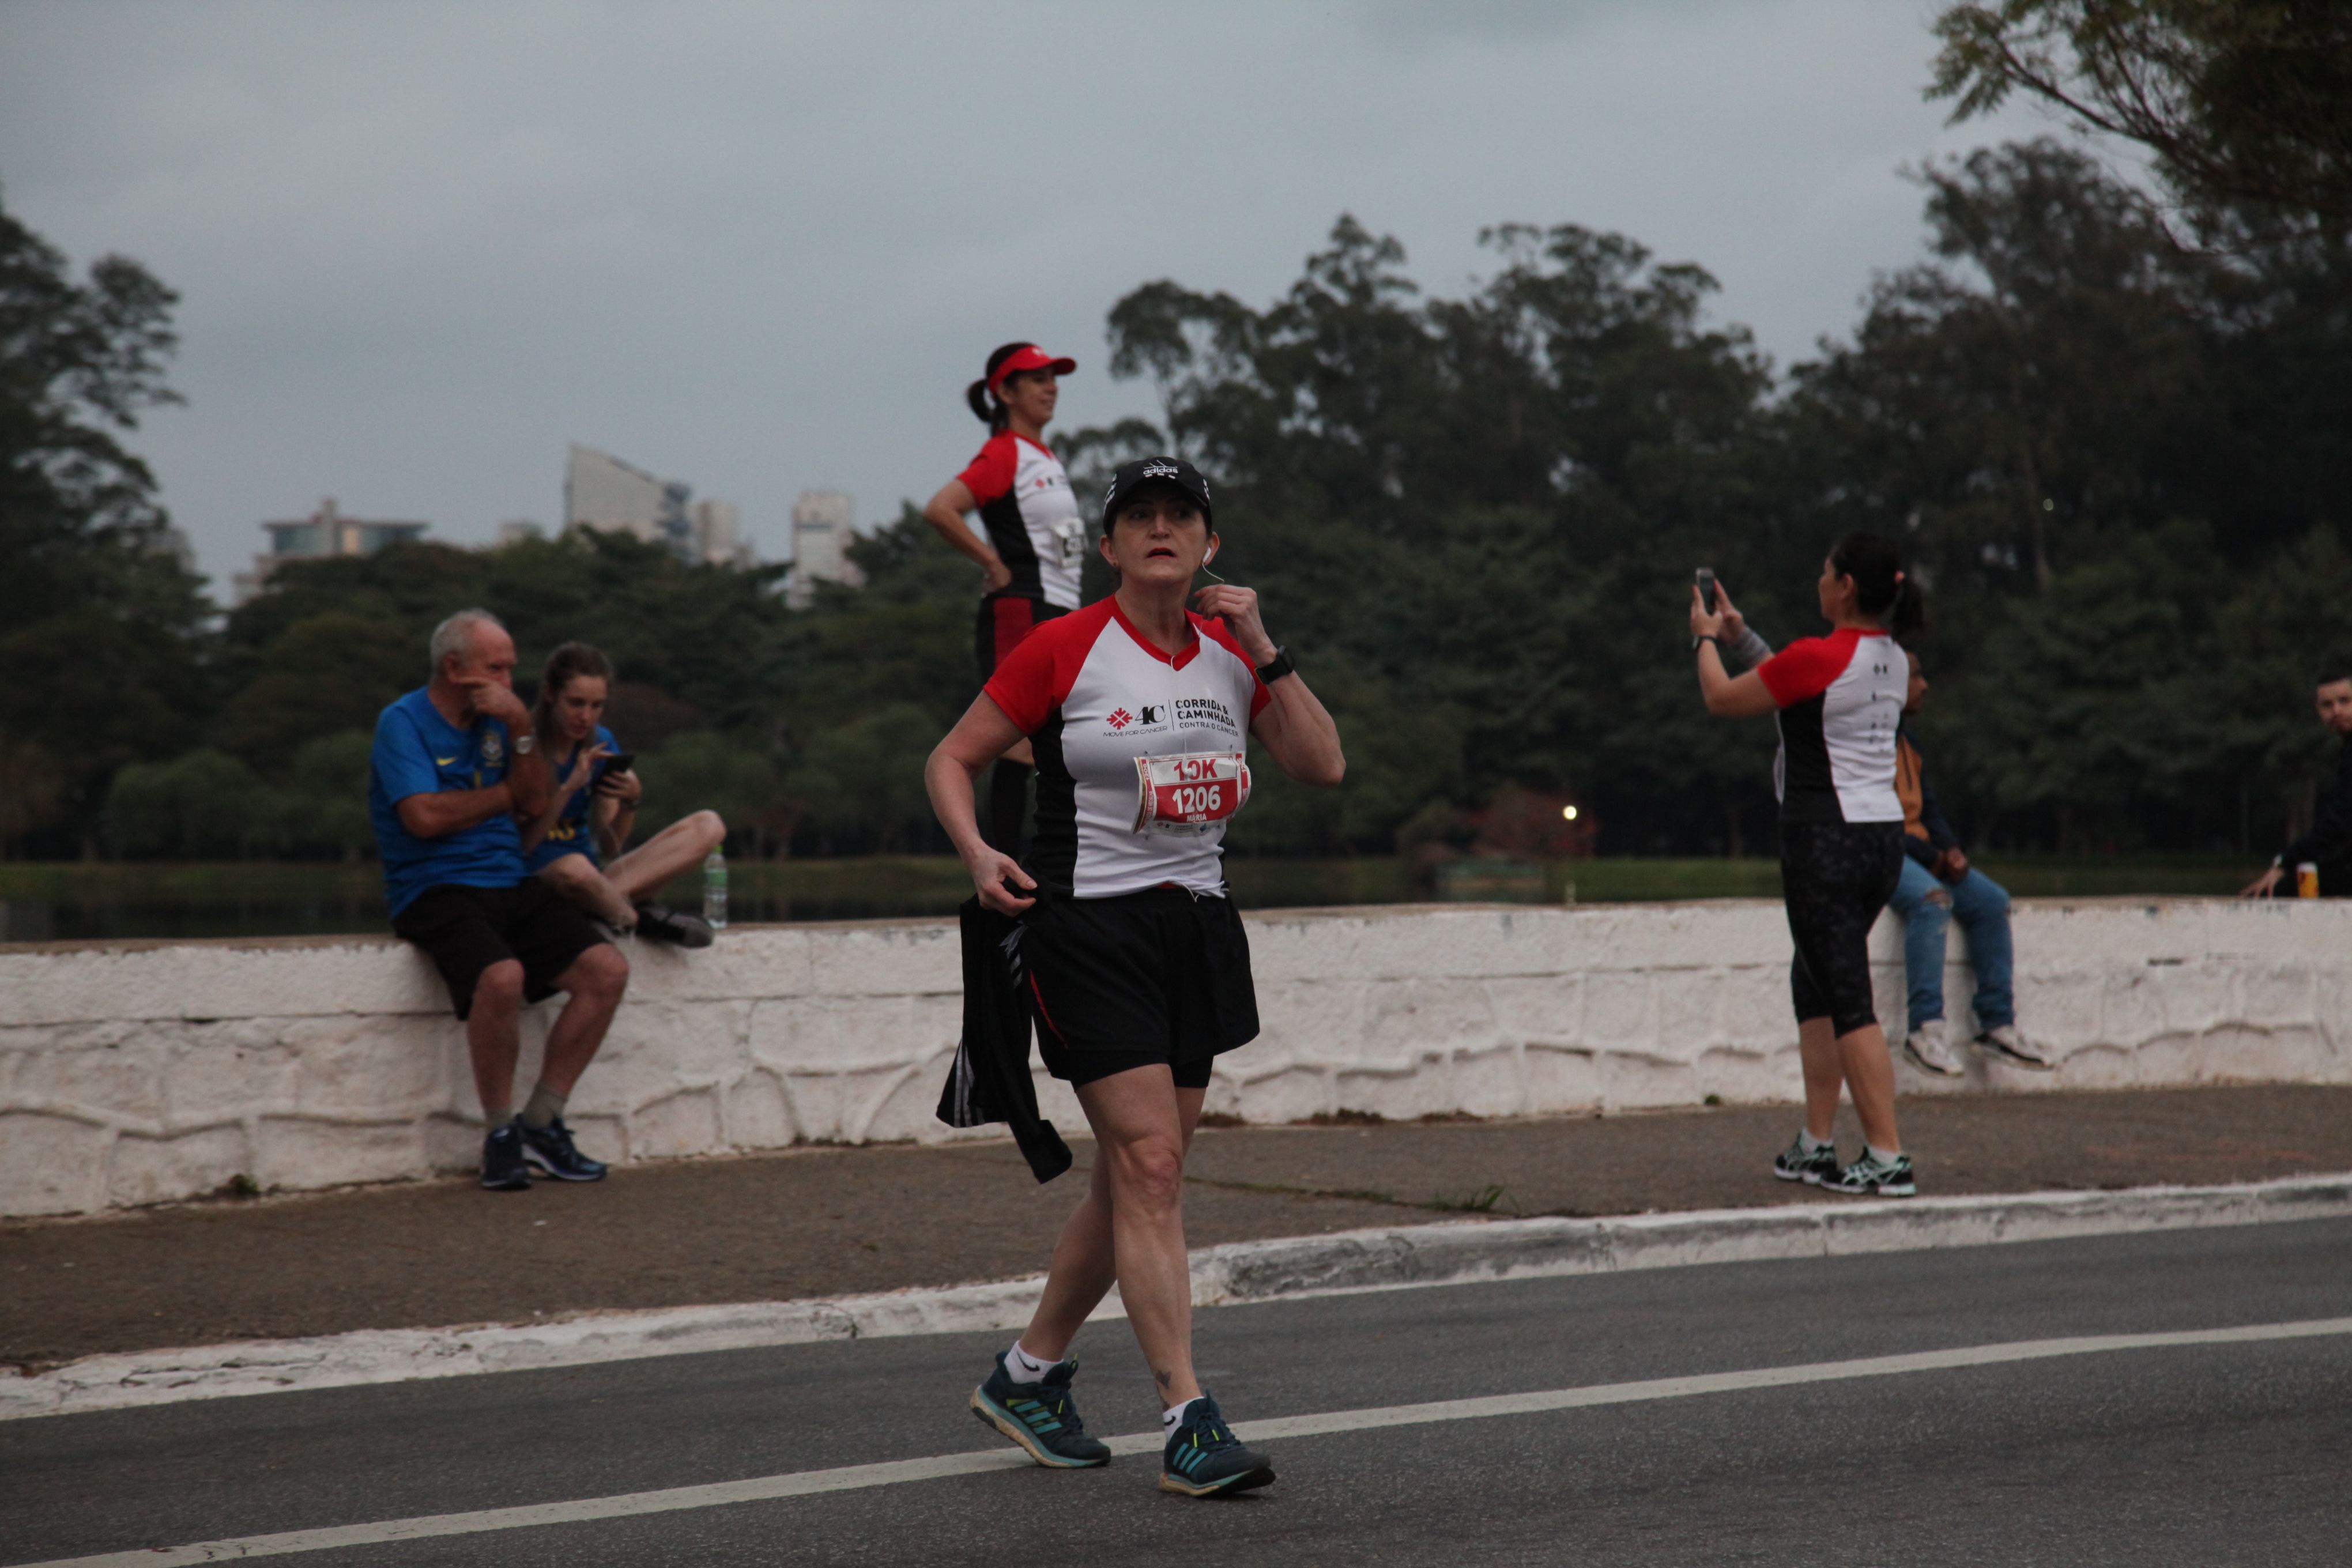bibtag: (1120, 747, 1263, 856)
